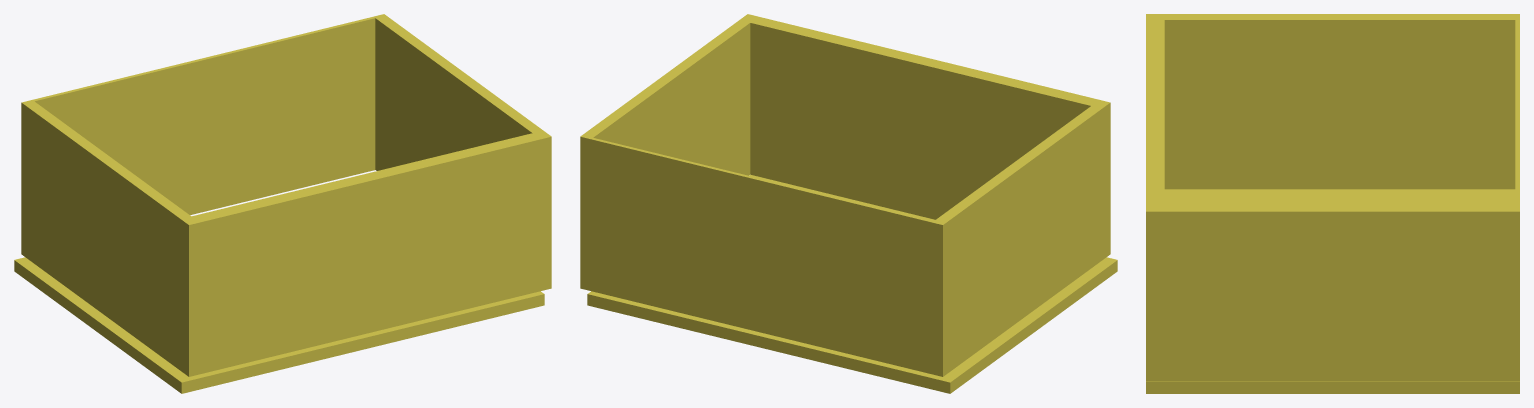
The picture shows the model from 3 angles, left to right: view 1: azimuth 30°, elevation 25°; view 2: azimuth 150°, elevation 25°; view 3: azimuth 270°, elevation 25°; orthographic projection. The views are drawn at different scales.
Visible parts, largest first — view 1: Mesh_Mesh_head_geo.001_lambert2SG.001; view 2: Mesh_Mesh_head_geo.001_lambert2SG.001; view 3: Mesh_Mesh_head_geo.001_lambert2SG.001.
Part boxes in pixels (box(x1,y1,x2,y2)): Mesh_Mesh_head_geo.001_lambert2SG.001: box(14, 14, 551, 393); Mesh_Mesh_head_geo.001_lambert2SG.001: box(580, 14, 1117, 393); Mesh_Mesh_head_geo.001_lambert2SG.001: box(1146, 14, 1519, 393).
Size of the model in its own units: 0.102 by 0.044 by 0.08.
